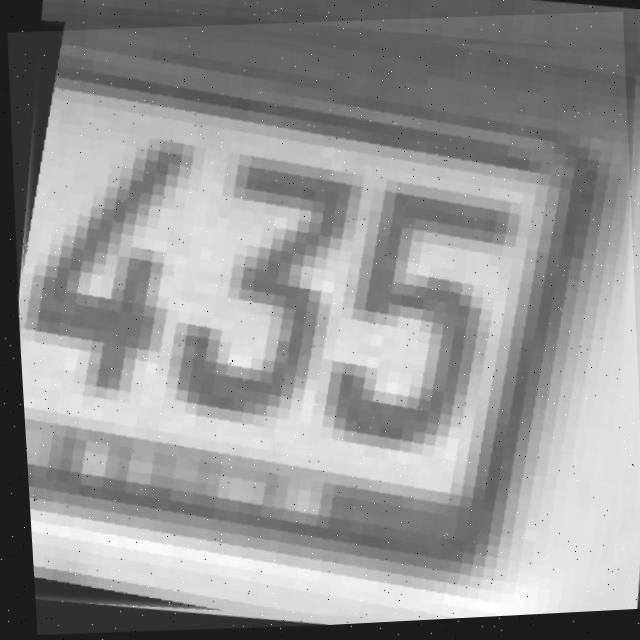LicensePlate: (1, 7, 640, 640)
